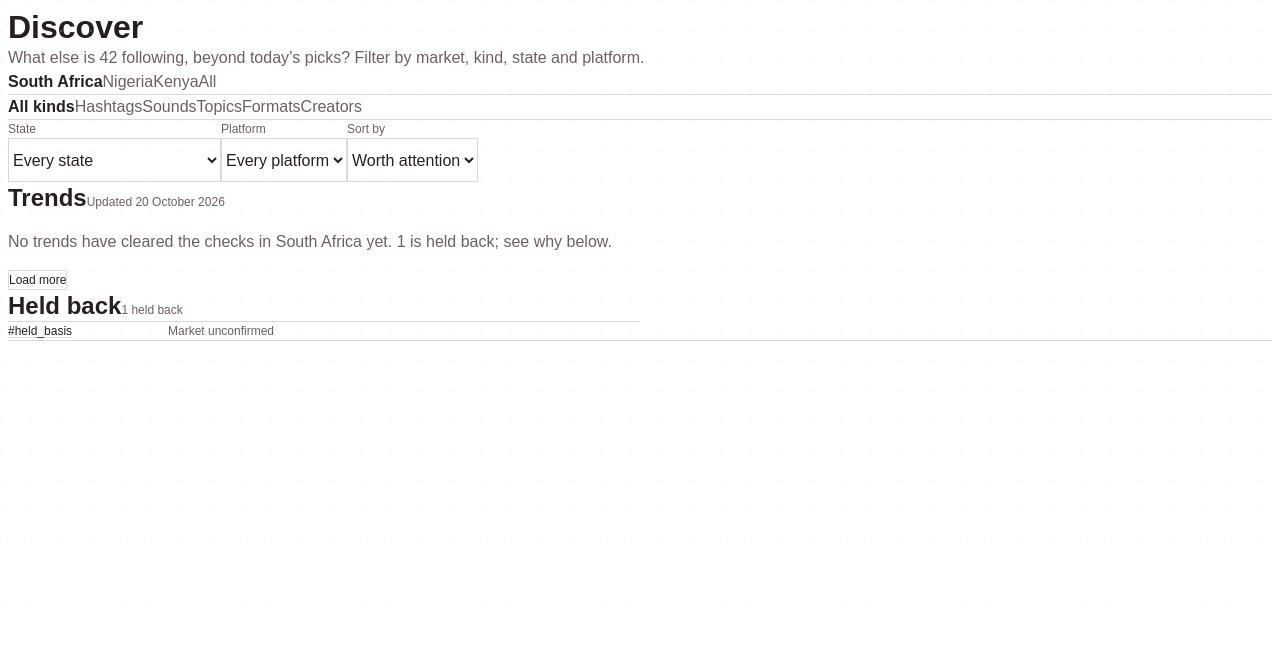
an expanded held Global card shows its supplied market evidence basis
The image size is (1280, 649).
Click the button "#held_basis".
click(88, 331)  # box left=8, top=323, right=168, bottom=340
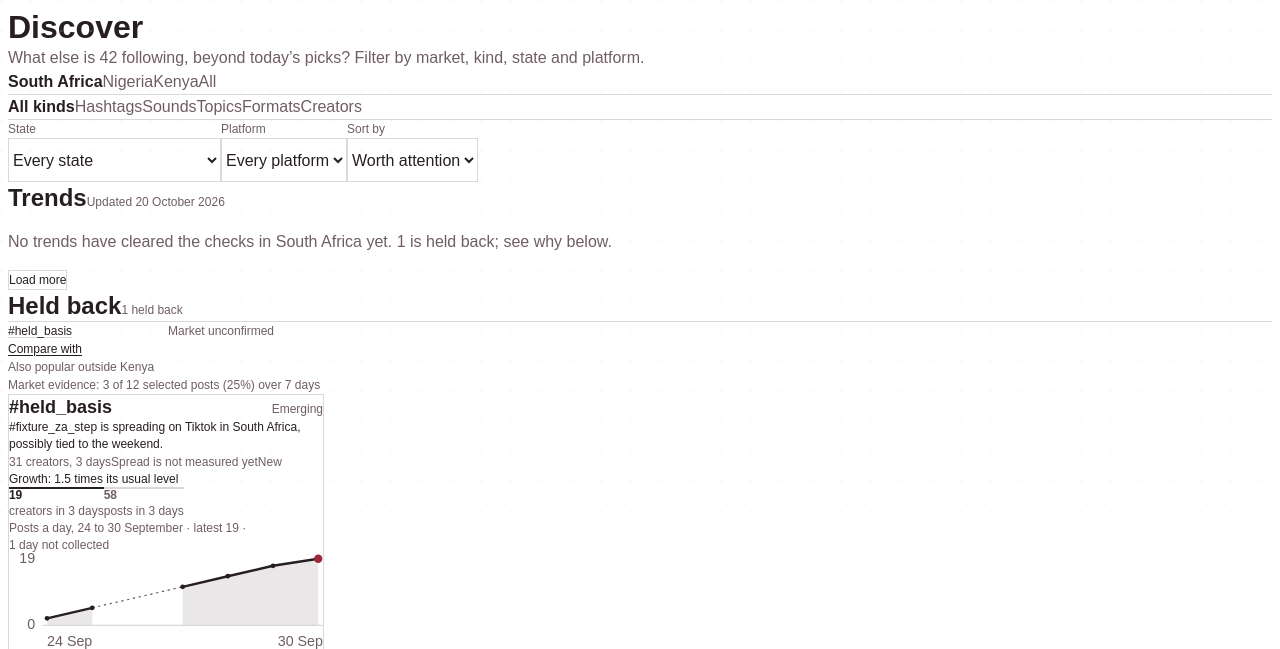
Check: the text with class "d42-global-scope" reads "Also popular outside Kenya", box left=8, top=360, right=154, bottom=374
Check: the text with class "d42-market-evidence" reads "Market evidence: 3 of 12 selected posts (25%) over 7 days", box left=8, top=378, right=320, bottom=392
